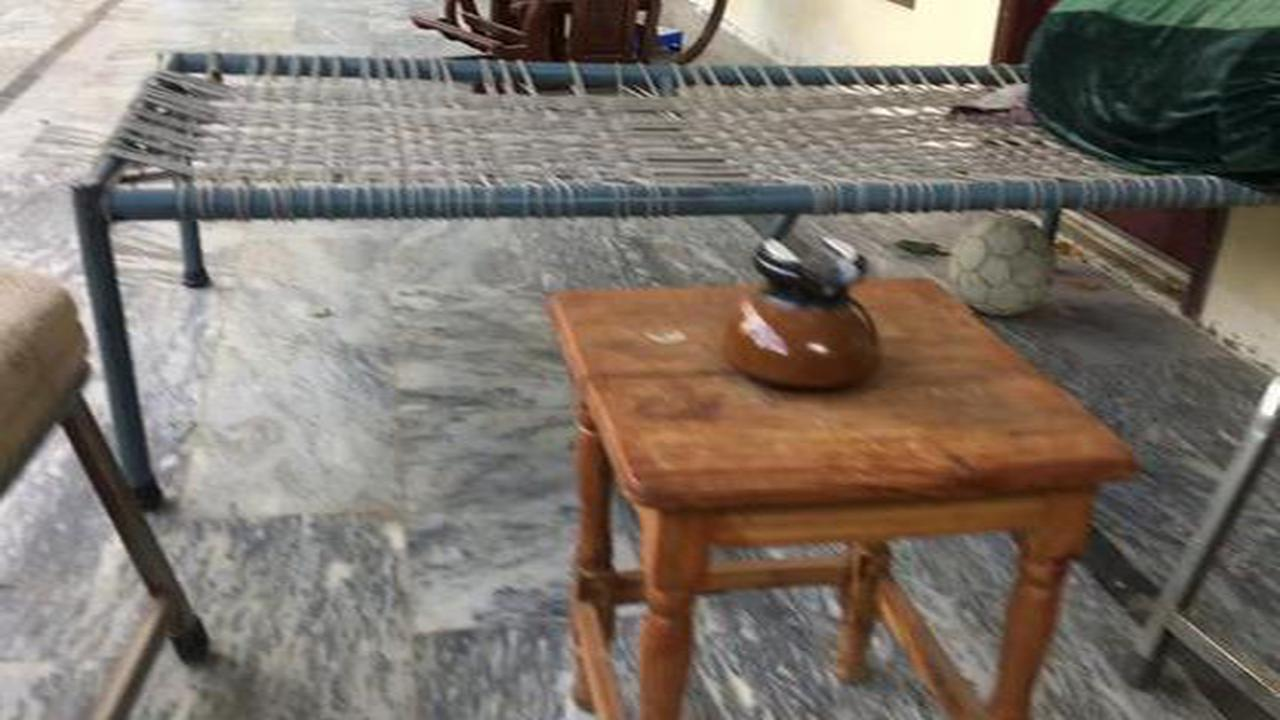insulator_pin: (721, 221, 905, 409)
